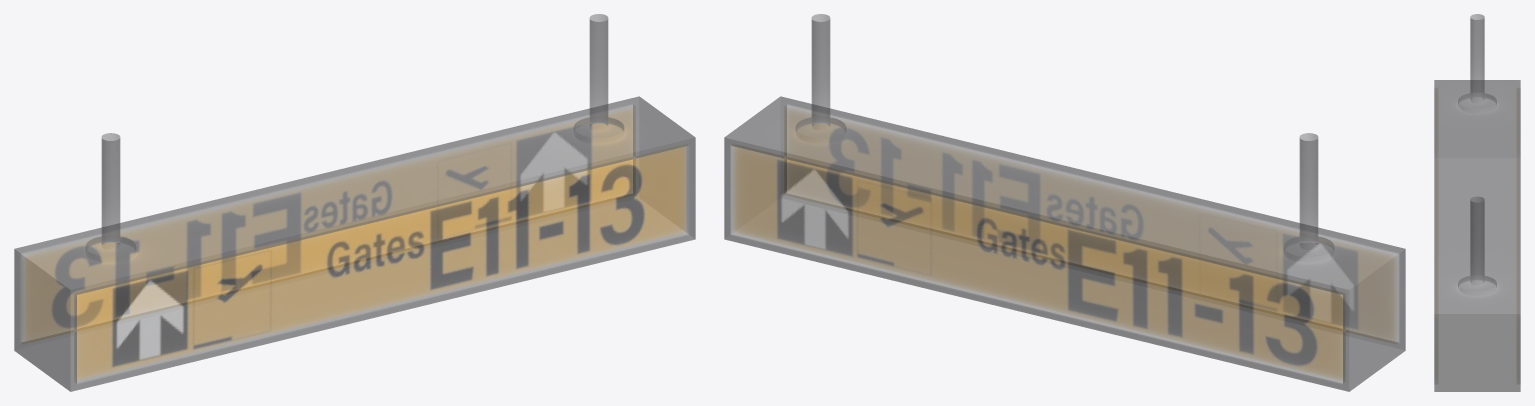
Rendered from gate_sign.glb.
The picture shows the model from 3 angles, left to right: view 1: azimuth 30°, elevation 25°; view 2: azimuth 150°, elevation 25°; view 3: azimuth 270°, elevation 25°; orthographic projection. The views are drawn at different scales.
Visible parts, largest first — view 1: gate_sign; view 2: gate_sign; view 3: gate_sign.
Boxes of the visible parts, x1,y1,x2,y2 form: gate_sign: [14, 14, 695, 391]; gate_sign: [724, 14, 1405, 391]; gate_sign: [1434, 14, 1520, 391].
Bounding box in the file's own units: 4 × 1.33 × 0.6236.
Materials: 1 (1 with a texture image).
